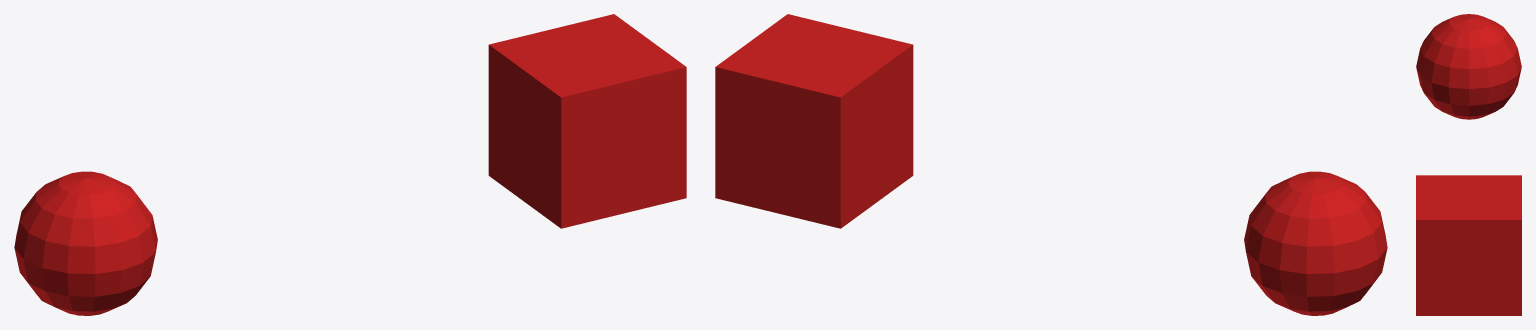
Rendered from two_objects_assimp.dae.
3 views of the same model, side by side, from view 1: azimuth 30°, elevation 25°; view 2: azimuth 150°, elevation 25°; view 3: azimuth 270°, elevation 25° (orthographic). The views are drawn at different scales.
Parts seen in each view (by area): view 1: Box, Ball; view 2: Box, Ball; view 3: Box, Ball.
Boxes of the visible parts, box(x1,y1,x2,y2) form: Box: box(488, 14, 686, 228); Ball: box(14, 171, 157, 315); Box: box(715, 14, 913, 228); Ball: box(1244, 171, 1387, 315); Box: box(1416, 175, 1521, 315); Ball: box(1416, 14, 1521, 119).
Bounding box in the file's own units: 5 × 1 × 1.
